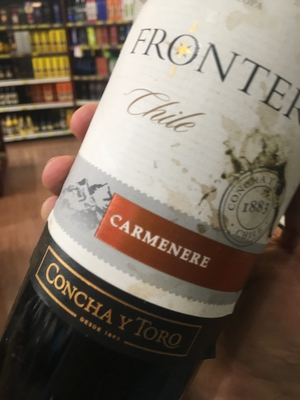frontera carmenere: (24, 8, 299, 380)
